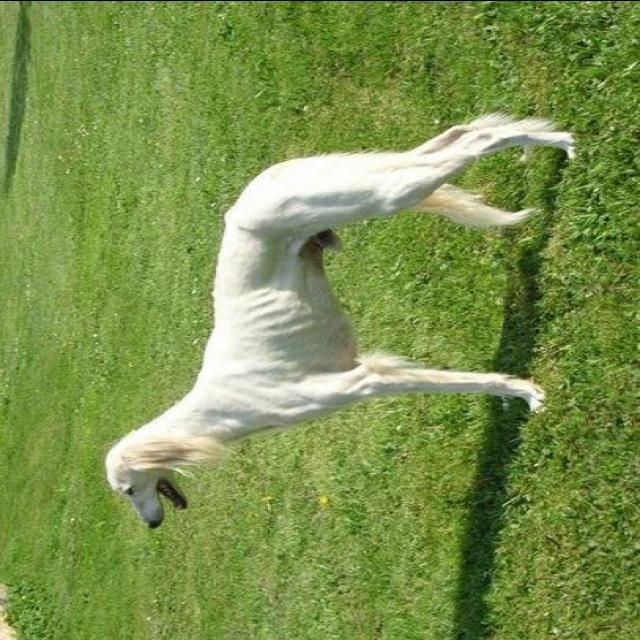saluki: (102, 109, 578, 528)
